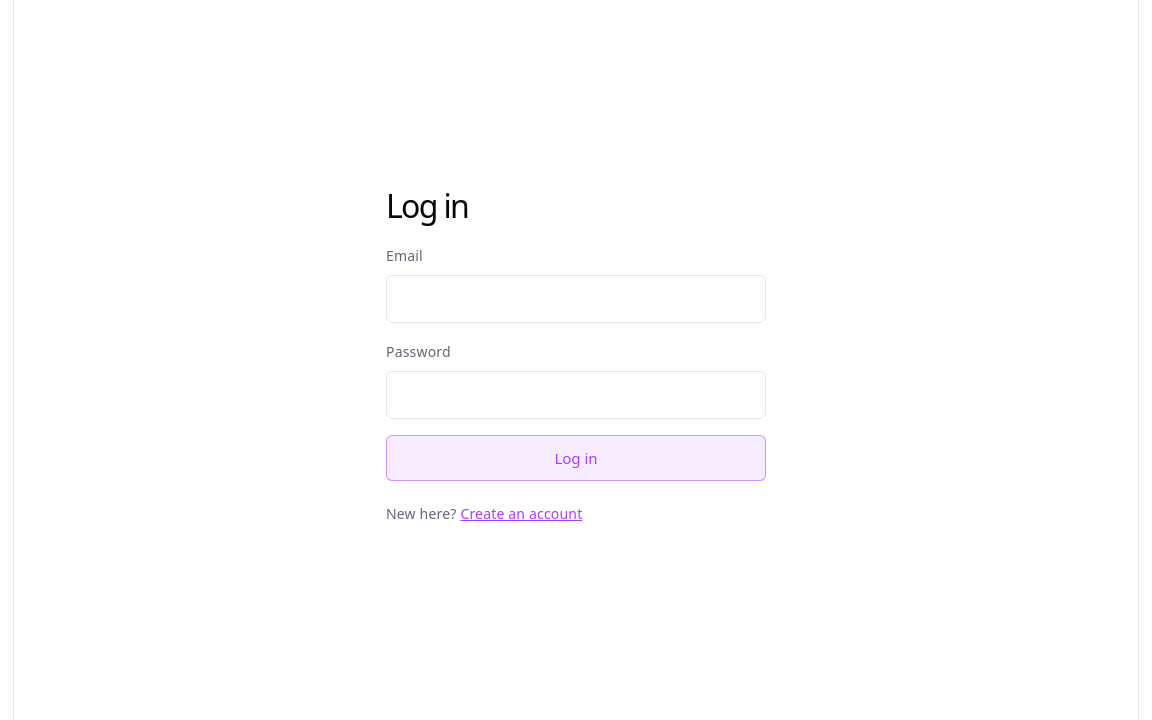
Test: App › shows the backend error message for a pending login
Type "anna@example.com" into the field labelled "Email".
click(576, 299); type("anna@example.com")  # box top-left (386, 275), bottom-right (766, 323)
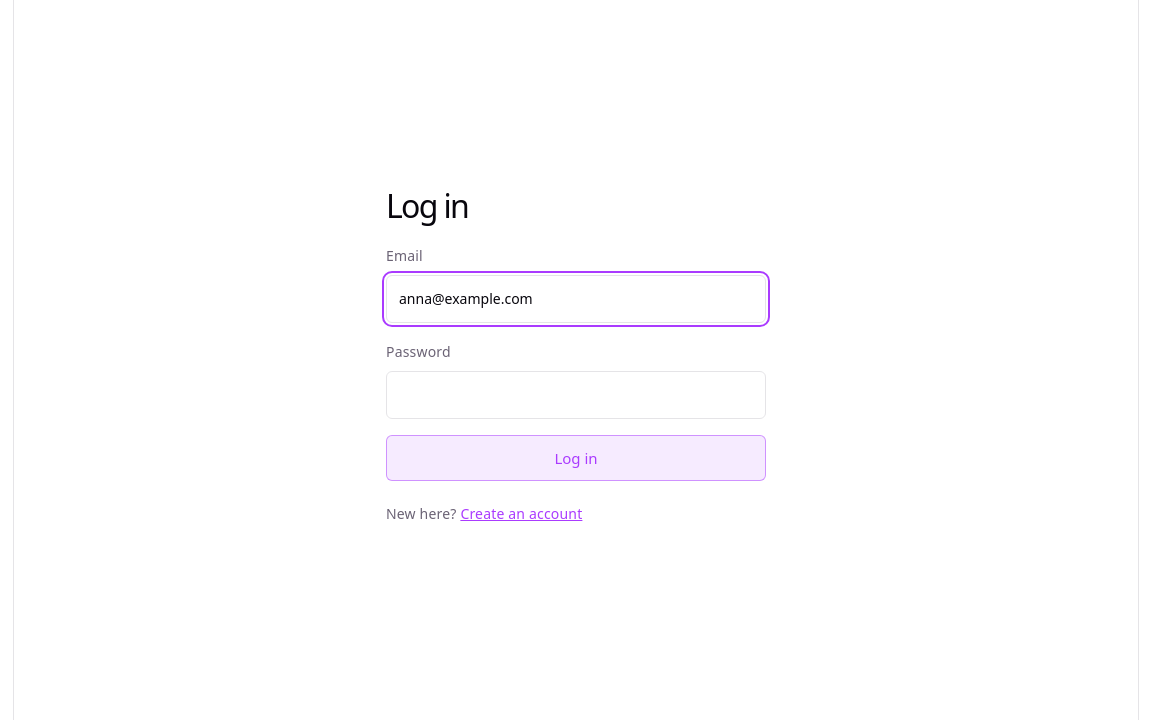
Type "password123" into the password field labelled "Password".
click(576, 395); type("password123")  # box top-left (386, 371), bottom-right (766, 419)
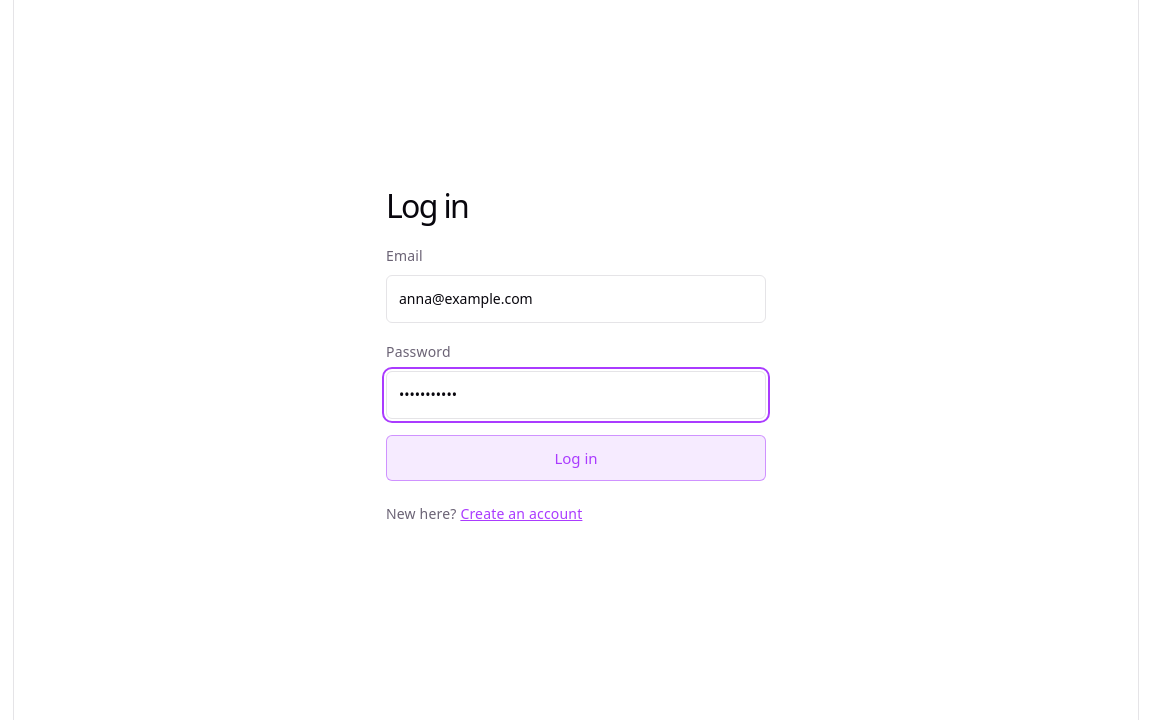
Click the button "Log in".
click(576, 458)  # box top-left (386, 435), bottom-right (766, 481)
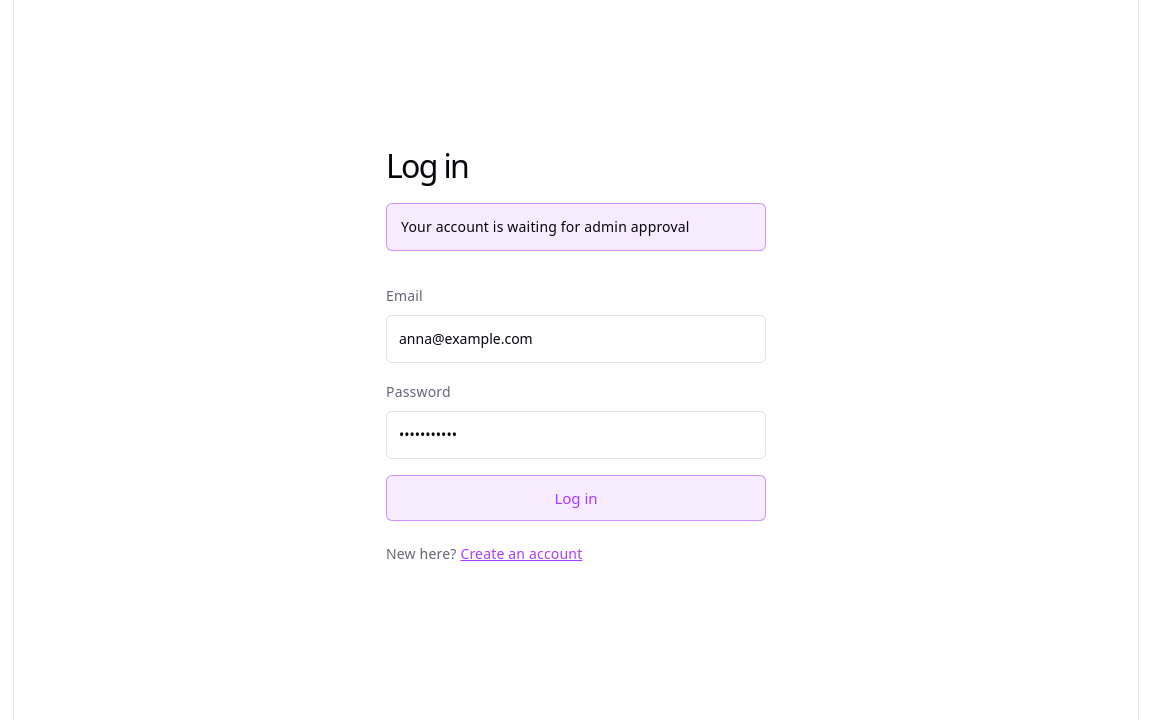
Now the message reads "Your account is waiting for admin approval", box top-left (401, 217), bottom-right (690, 236)
